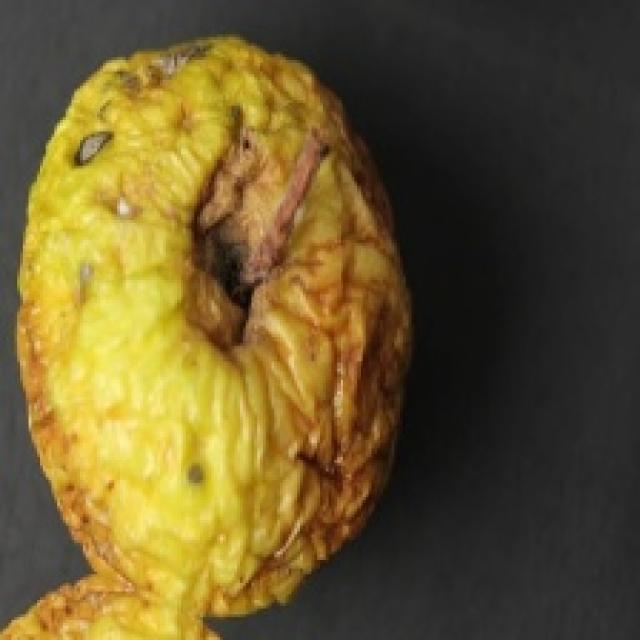rotten_apple: (27, 41, 407, 614)
